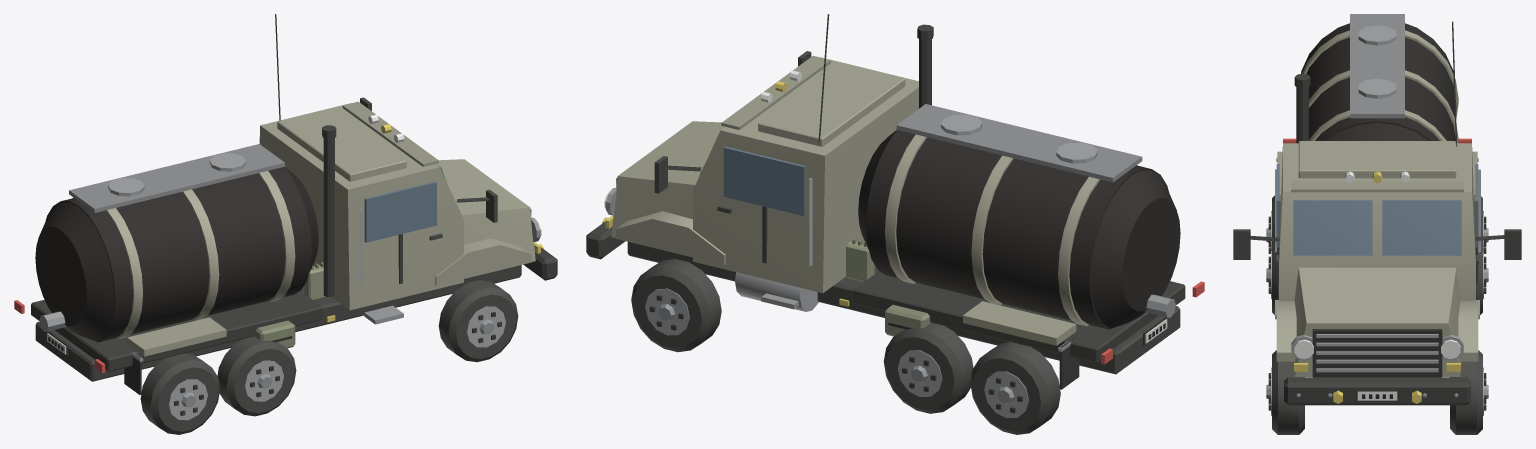
The model's file is oiltruck.glb.
The picture shows the model from 3 angles, left to right: view 1: azimuth 30°, elevation 25°; view 2: azimuth 150°, elevation 25°; view 3: azimuth 270°, elevation 25°; orthographic projection. The views are drawn at different scales.
Parts seen in each view (by area): view 1: hull; view 2: hull; view 3: hull.
Part boxes in pixels (<box>): hull: <box>14,14,557,434</box>; hull: <box>586,14,1204,434</box>; hull: <box>1233,14,1521,434</box>.
Size of the model in its own units: 7.56 by 4.79 by 3.66.
